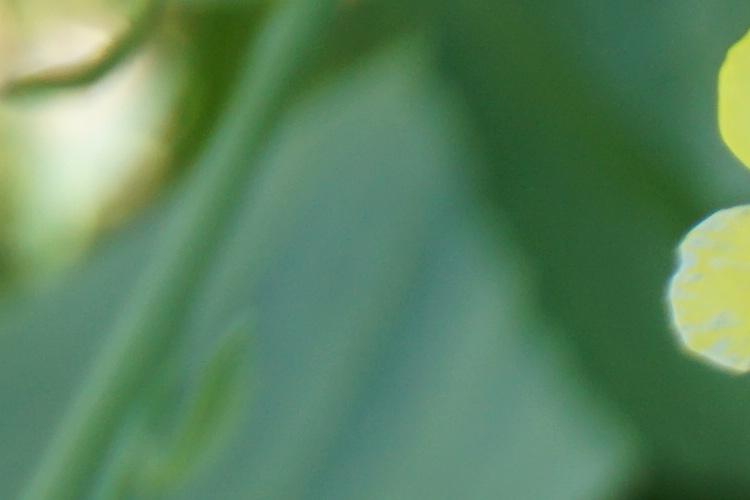yellow: (657, 35, 750, 390)
